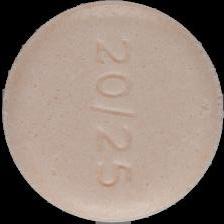0615-7582: (0, 0, 224, 224)
